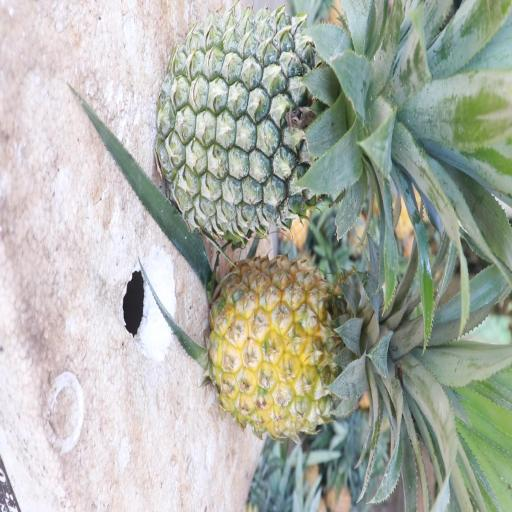Pineapple - v8 v1: (205, 248, 459, 469)
